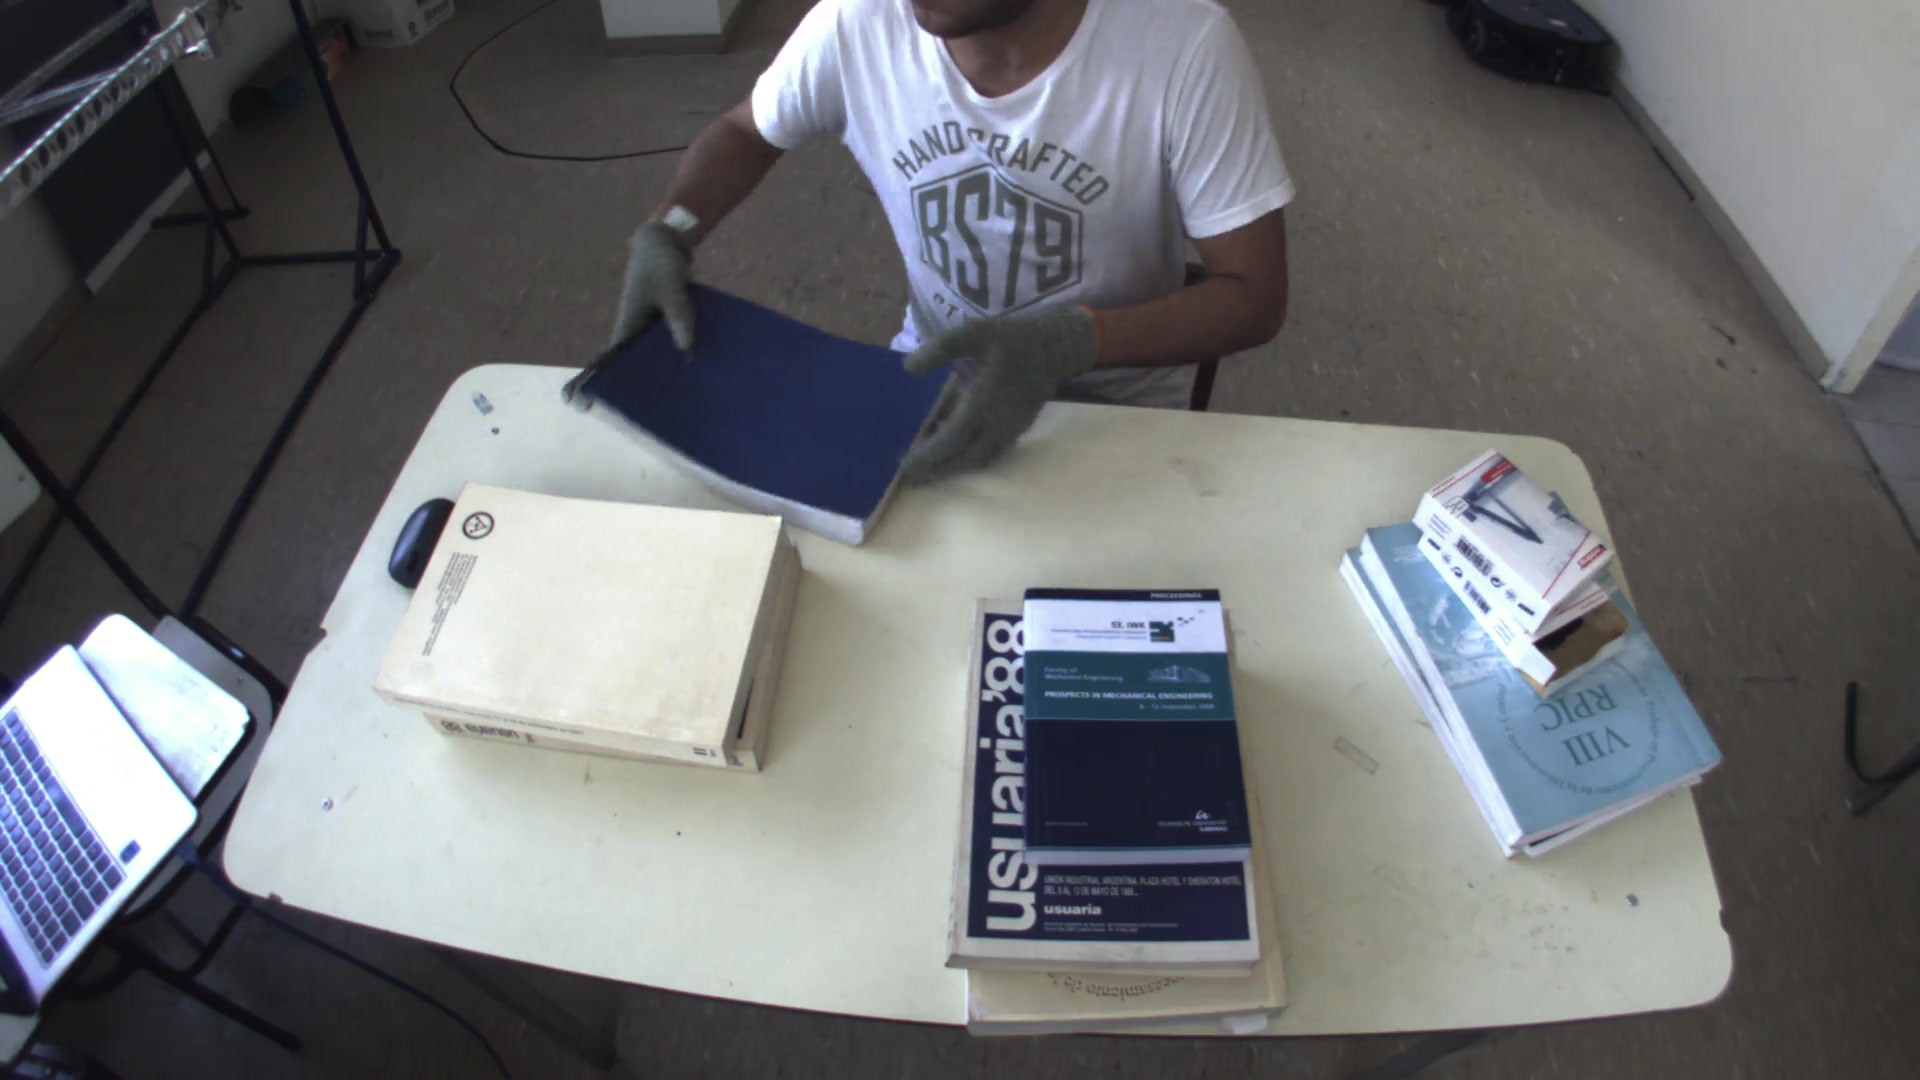hand: (897, 282, 1101, 475), (596, 212, 702, 352)
